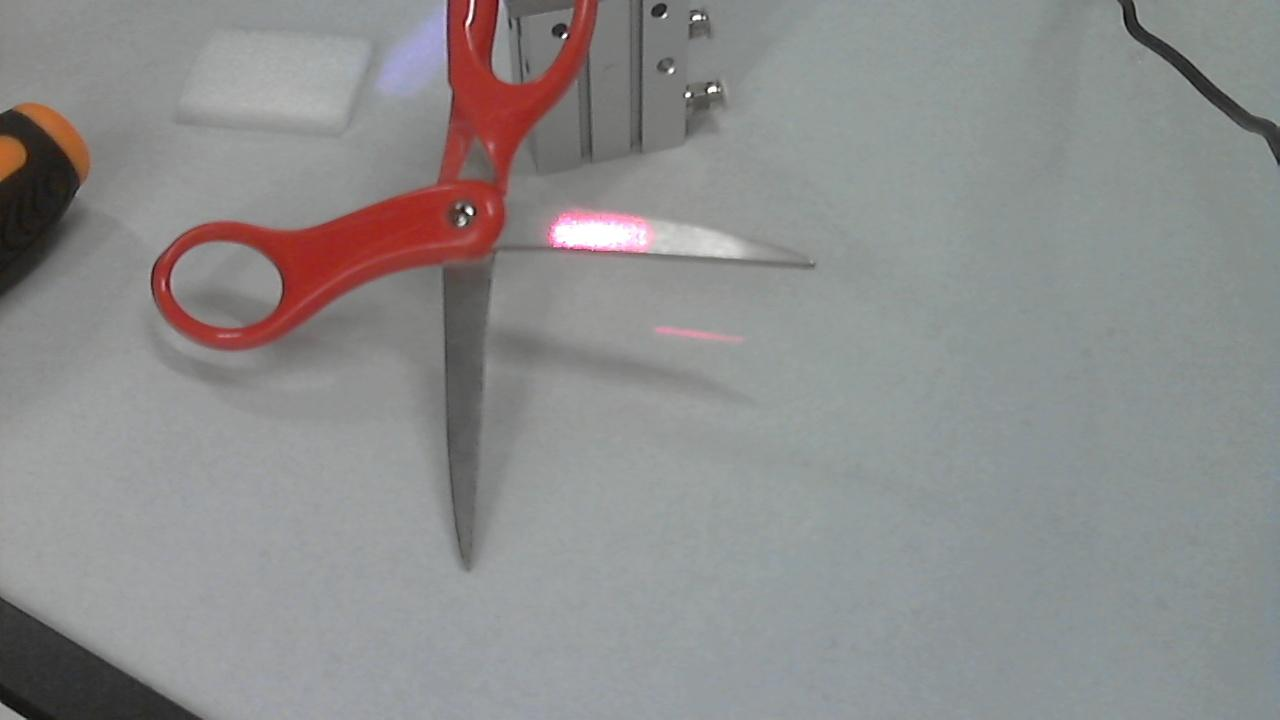Object scissors - Material metal - Pdfname tYexGlkiIXWc: (553, 193, 660, 260)
